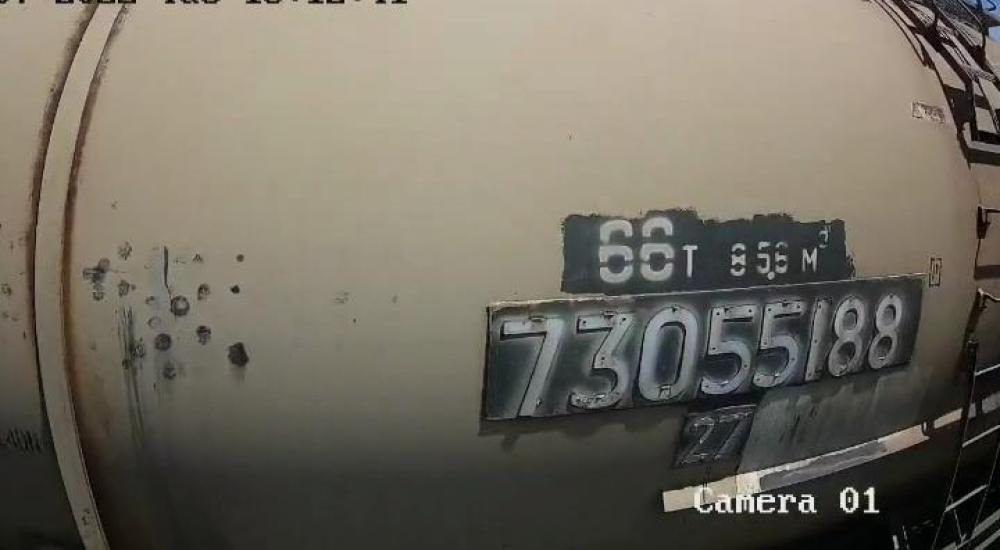Wagon-number: (500, 288, 915, 419)
